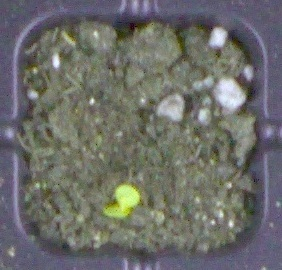chilli seed: (115, 183, 140, 208), (103, 203, 130, 218)
